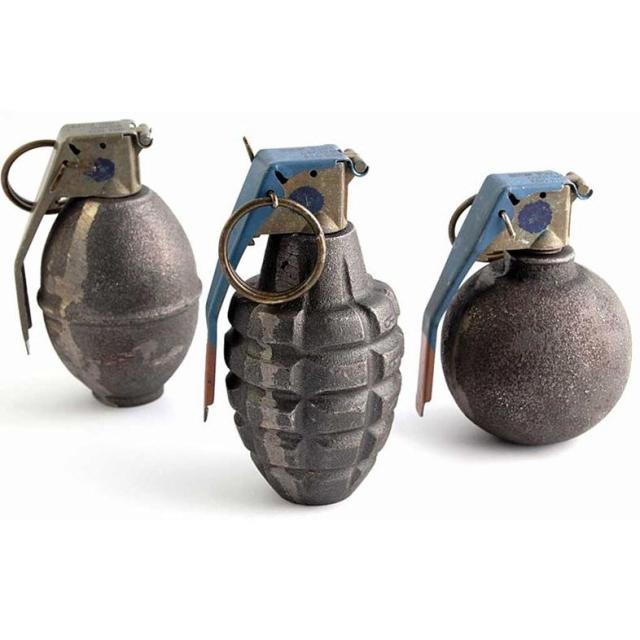grenade: (204, 137, 405, 509), (417, 170, 635, 449), (2, 122, 204, 413)
